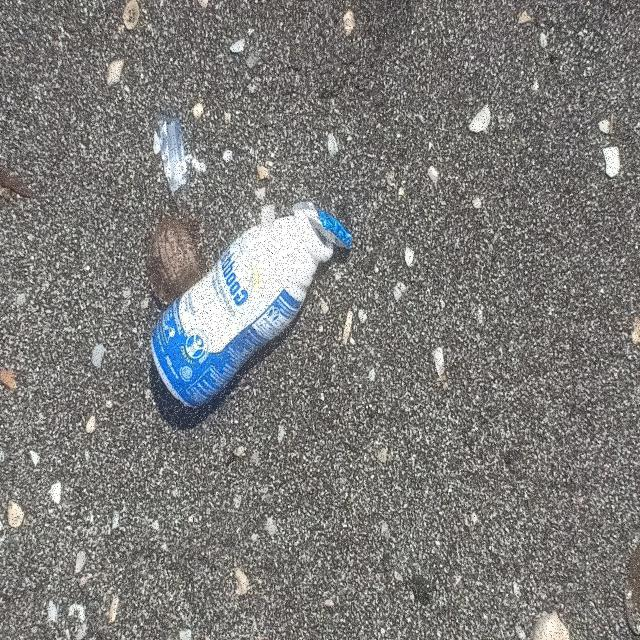plastic_waste: (151, 201, 354, 411)
